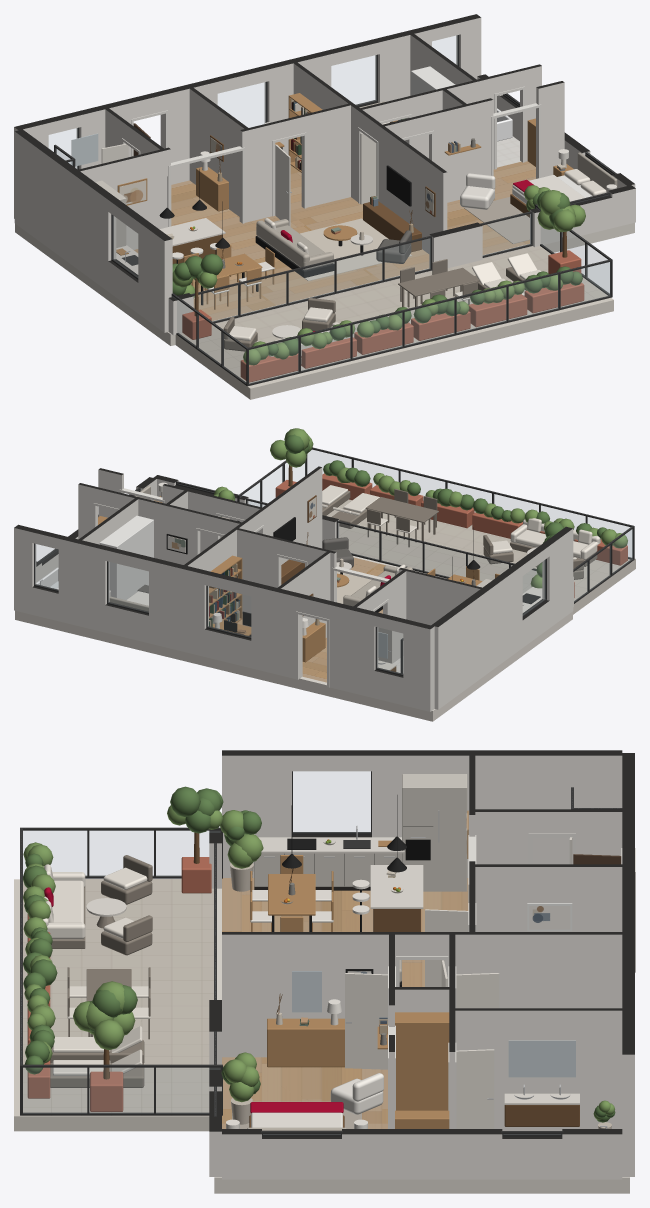
The model's file is sabotino.glb.
The picture shows the model from 3 angles, top to bottom: view 1: azimuth 30°, elevation 25°; view 2: azimuth 150°, elevation 25°; view 3: azimuth 270°, elevation 25°; orthographic projection. The views are drawn at different scales.
Size of the model in its own units: 14.5 by 3.06 by 12.42.
117 materials, 14 textured.
